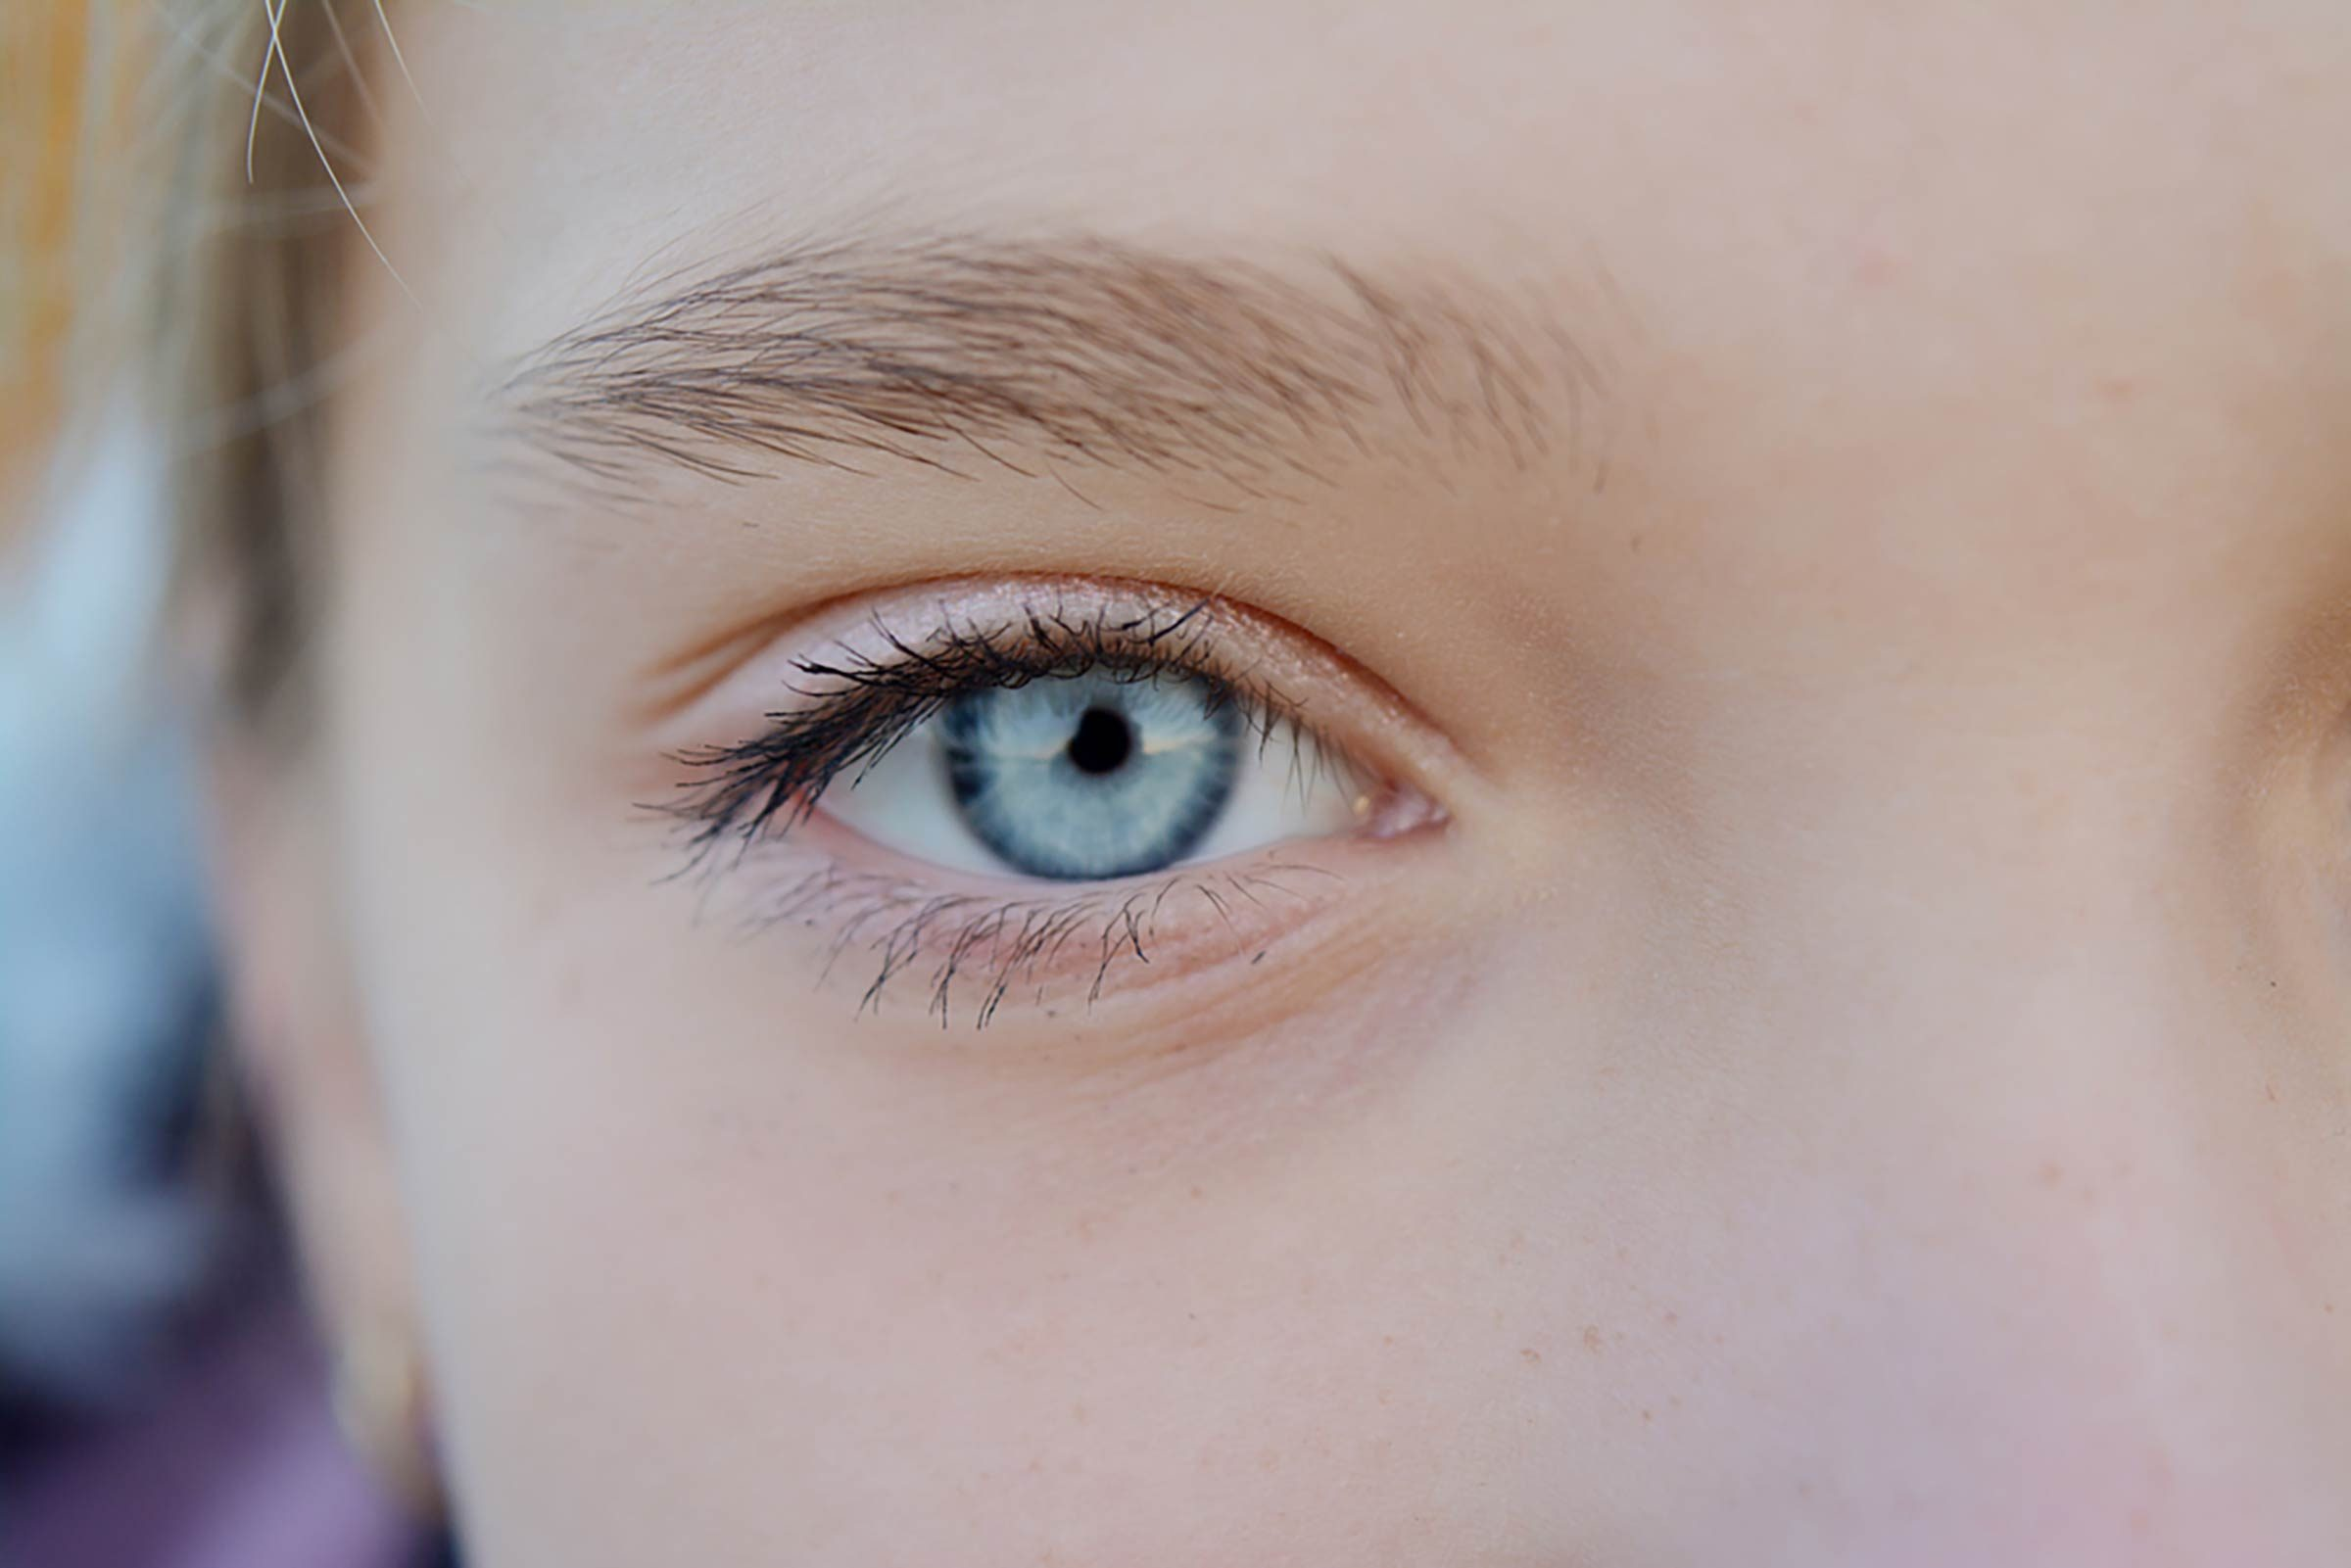iris: (939, 615, 1243, 883)
pupil: (1064, 703, 1137, 778)
